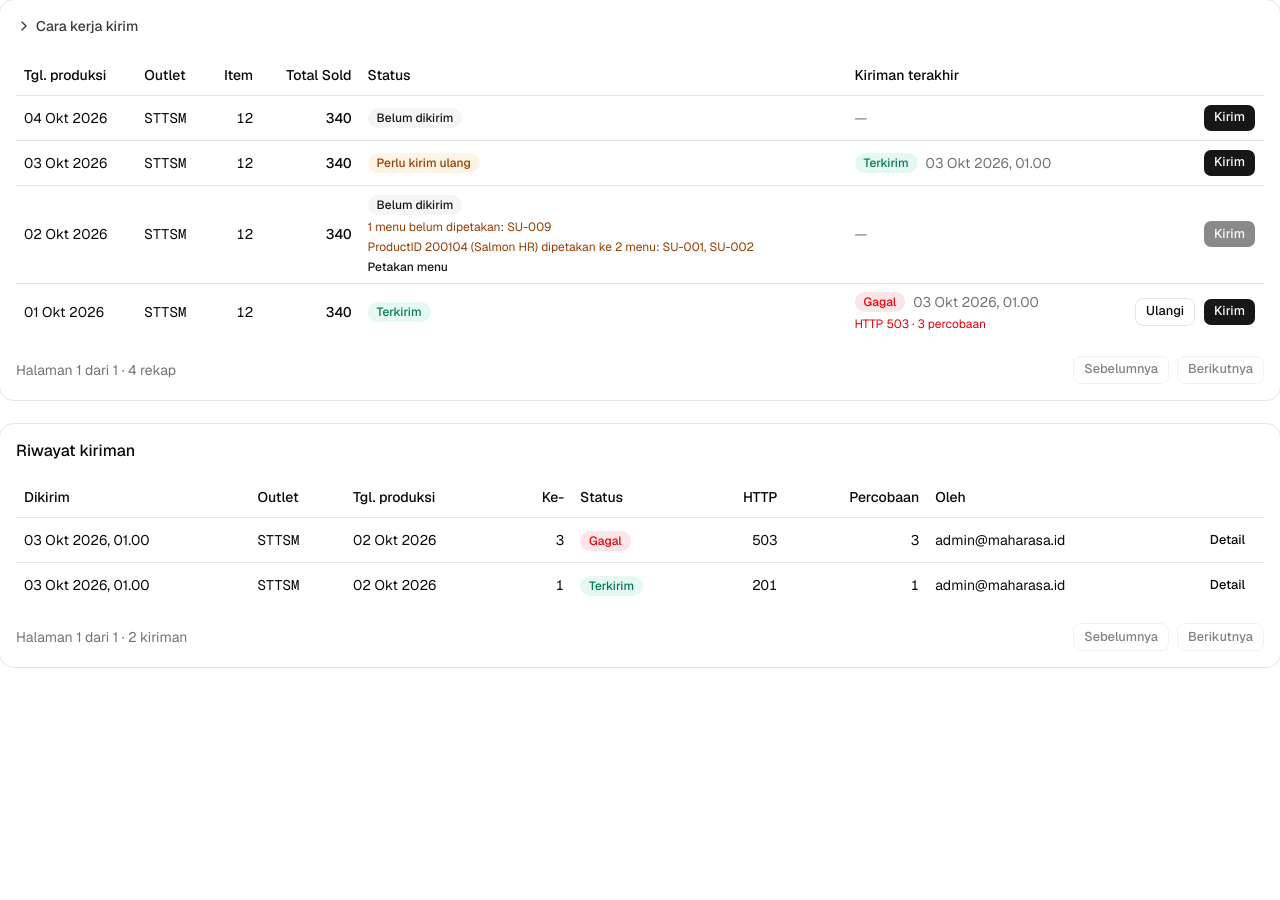
Test: ClosingExportPanel › perlu kirim ulang memberi tahu di dialog bahwa isinya berubah
Expected: the table "Status Kirim" is shown, left=16, top=55, right=1264, bottom=340
Click the button "Kirim" in the row of "Perlu kirim ulang".
click(1230, 162)  # box left=1203, top=148, right=1256, bottom=176
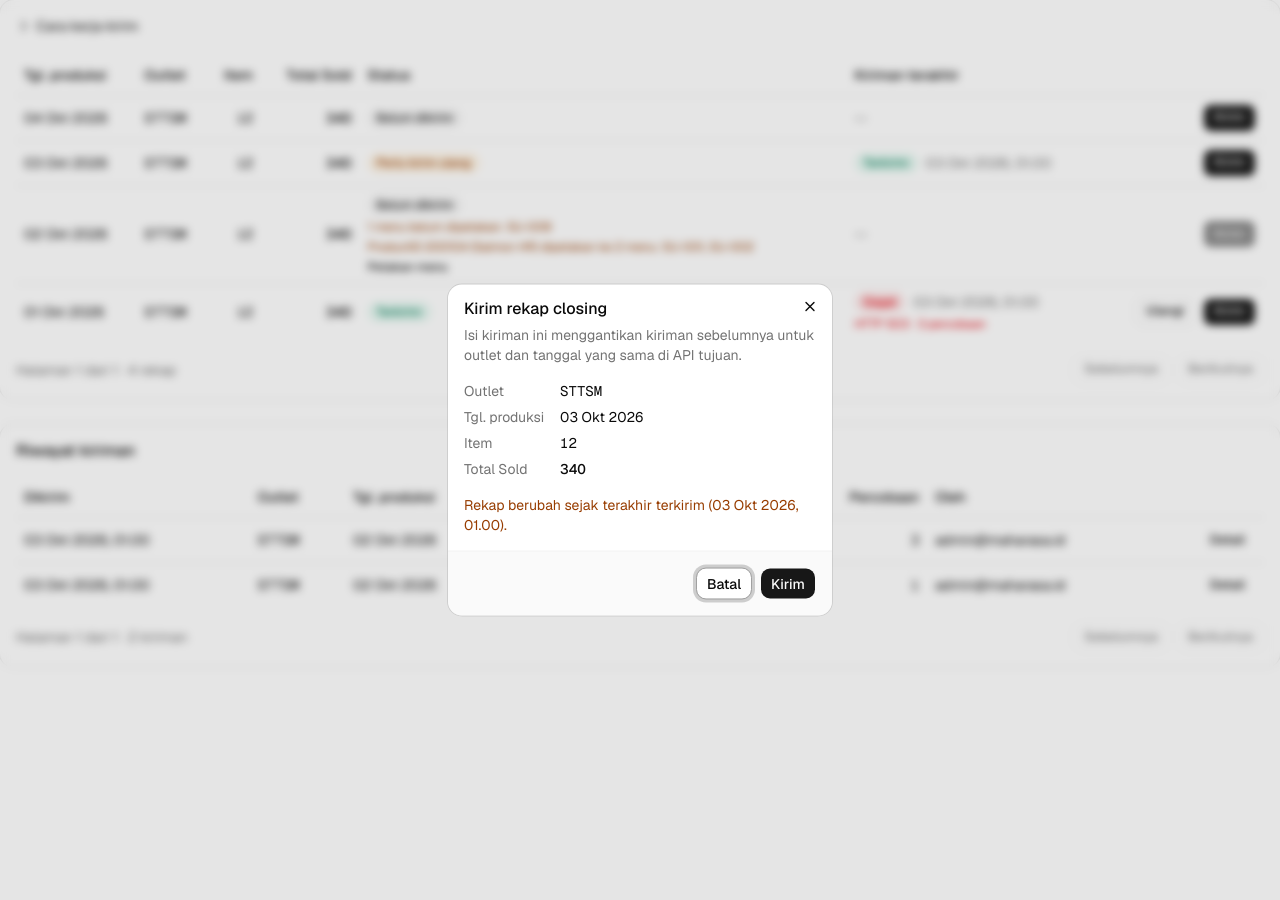
Now the text "Rekap berubah sejak terakhir terkirim (03 Okt 2026, 01.00)." is shown, box left=464, top=494, right=816, bottom=534
